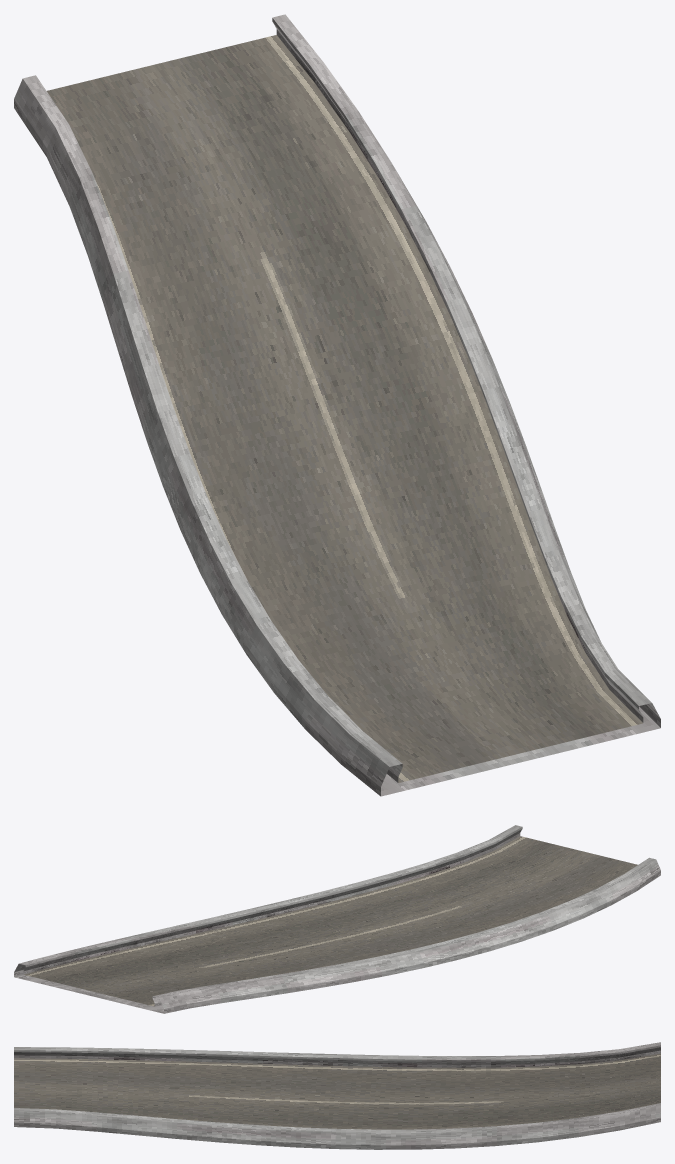
The model's file is road-Chicane-Flat-BiSlopeUp-Up2-Right1-Size4.glb.
3 renders of one model, top to bottom at view 1: azimuth 30°, elevation 25°; view 2: azimuth 150°, elevation 25°; view 3: azimuth 270°, elevation 25°, orthographic. The views are drawn at different scales.
Visible parts, largest first — view 1: road-Chicane-Flat-BiSlopeUp-Up2-Right1-Size4; view 2: road-Chicane-Flat-BiSlopeUp-Up2-Right1-Size4; view 3: road-Chicane-Flat-BiSlopeUp-Up2-Right1-Size4.
Boxes of the visible parts, x1,y1,x2,y2 form: road-Chicane-Flat-BiSlopeUp-Up2-Right1-Size4: (14, 14, 660, 796); road-Chicane-Flat-BiSlopeUp-Up2-Right1-Size4: (14, 825, 660, 1013); road-Chicane-Flat-BiSlopeUp-Up2-Right1-Size4: (14, 1042, 660, 1149).
Size of the model in its own units: 2 by 0.5938 by 4.
2 materials, 2 textured.
